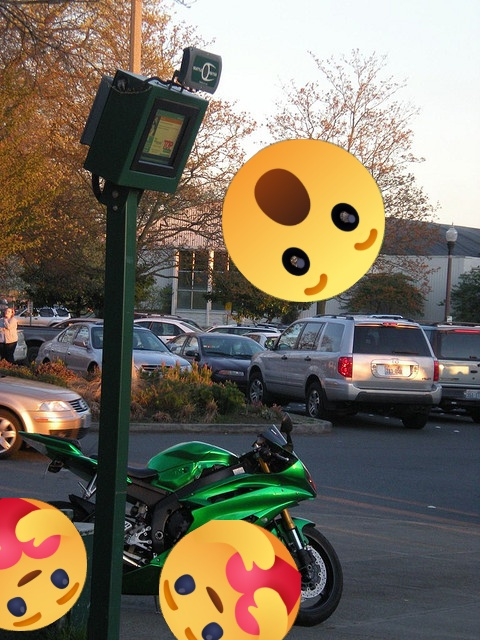care: (159, 520, 301, 640), (0, 498, 87, 631)
wow: (222, 139, 385, 302)
